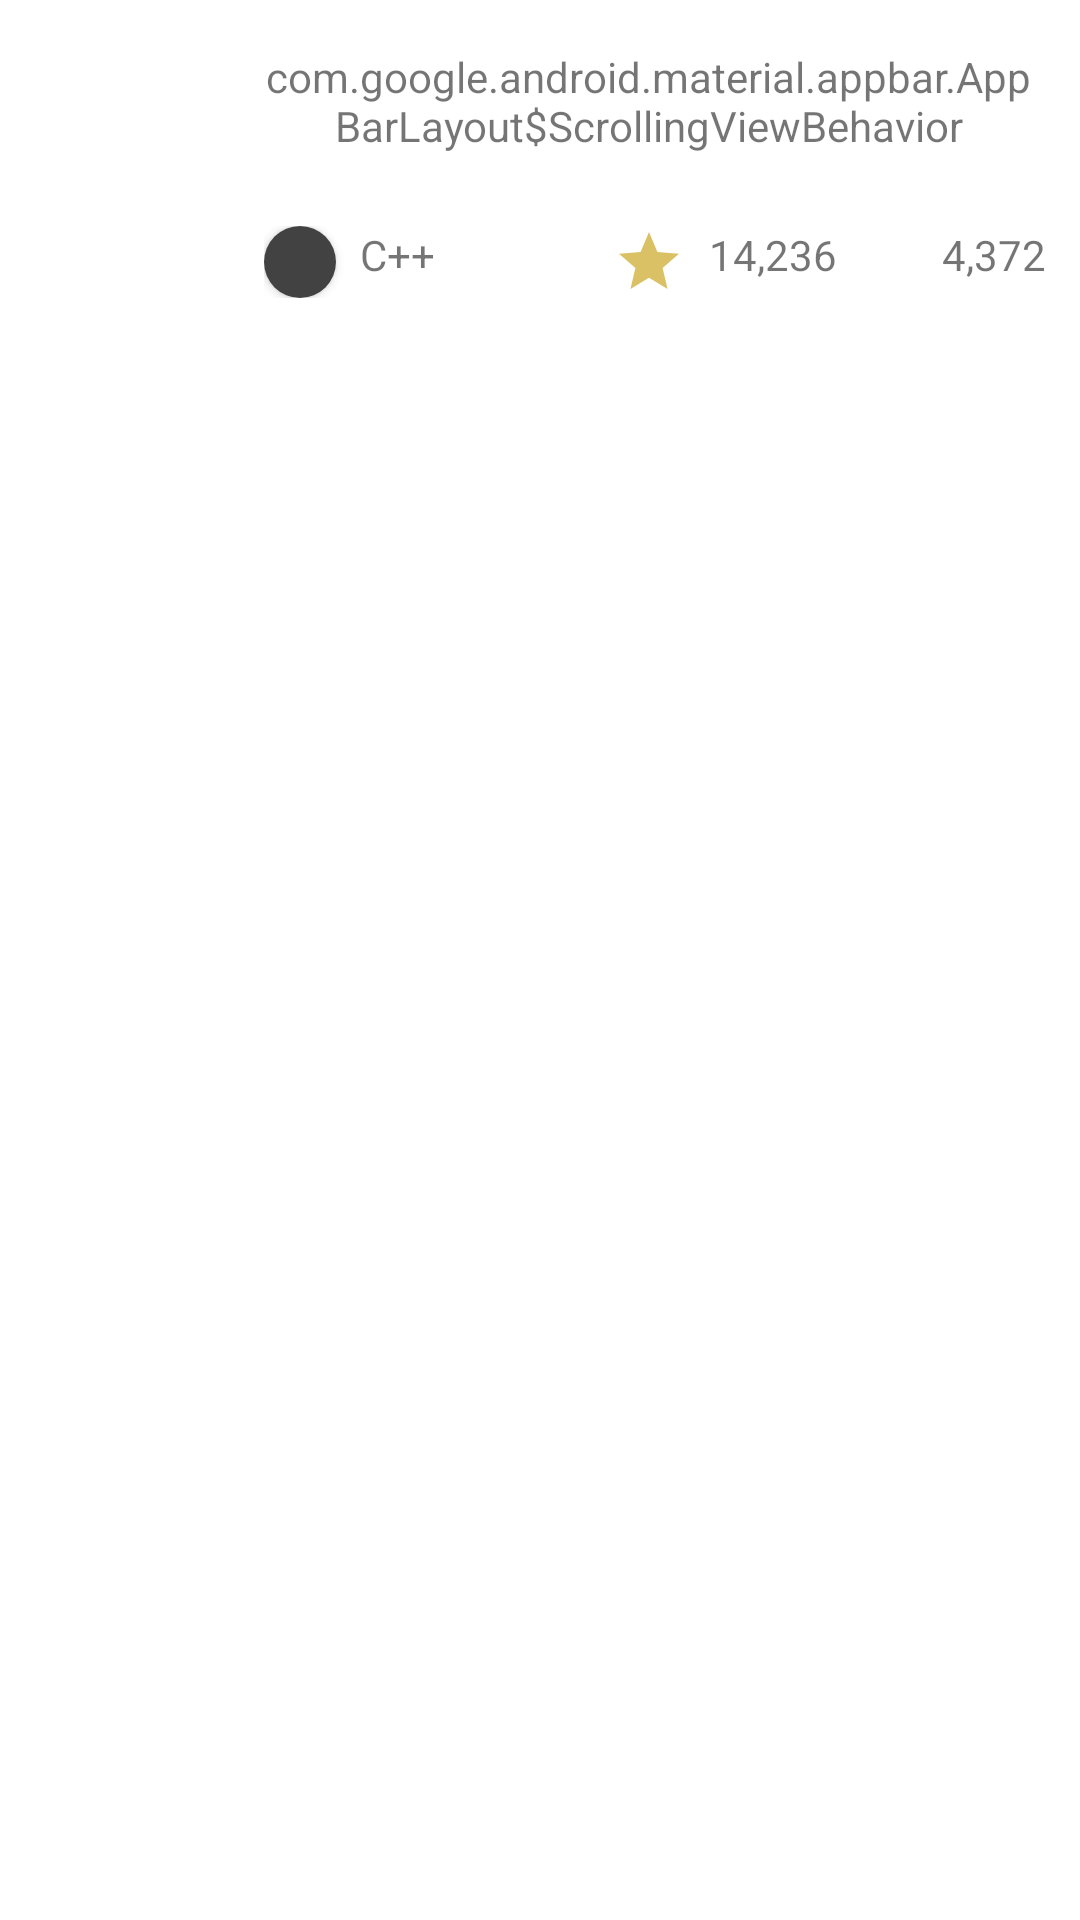

Where to tap for icons on this 1080*1920 app screen, as (x,y):
star: (649,260)
